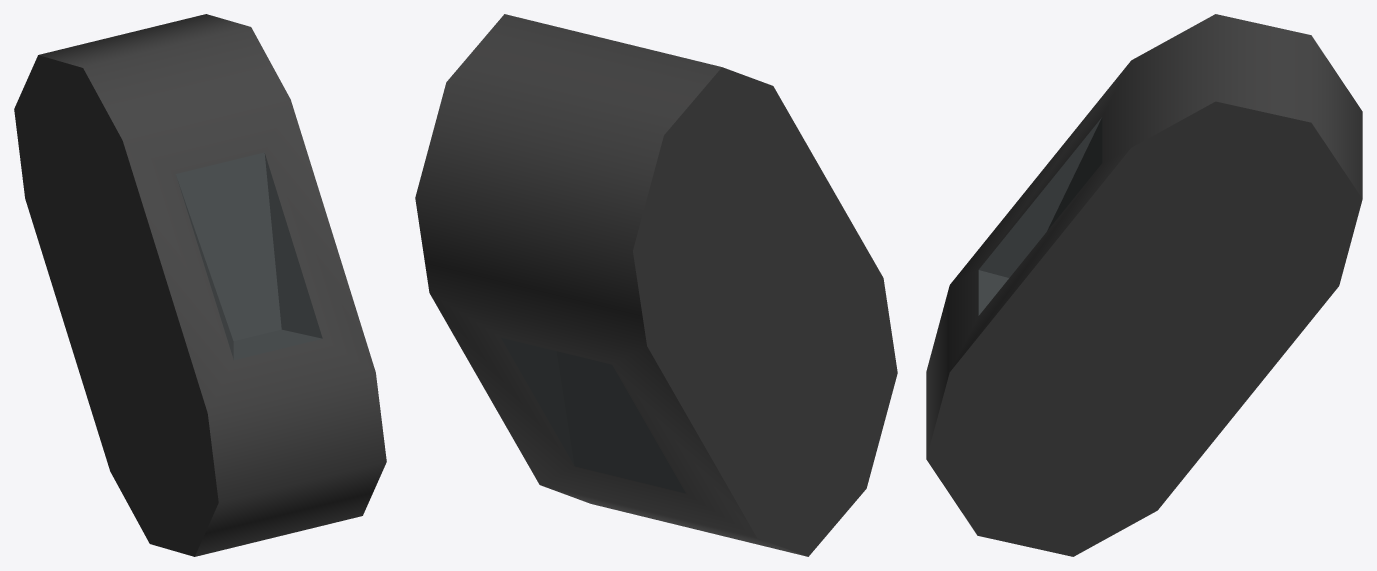
File: Turret_006_Part_02.fbx
3 renders of one model, left to right at view 1: azimuth 30°, elevation 25°; view 2: azimuth 150°, elevation 25°; view 3: azimuth 270°, elevation 25°, orthographic. The views are drawn at different scales.
Parts seen in each view (by area): view 1: Turret_006_Part_02; view 2: Turret_006_Part_02; view 3: Turret_006_Part_02.
Boxes of the visible parts, left/top/right/bottom form: Turret_006_Part_02: left=14, top=14, right=386, bottom=556; Turret_006_Part_02: left=415, top=14, right=897, bottom=556; Turret_006_Part_02: left=926, top=14, right=1362, bottom=556.
Size of the model in its own units: 27.88 by 58.79 by 67.71.
